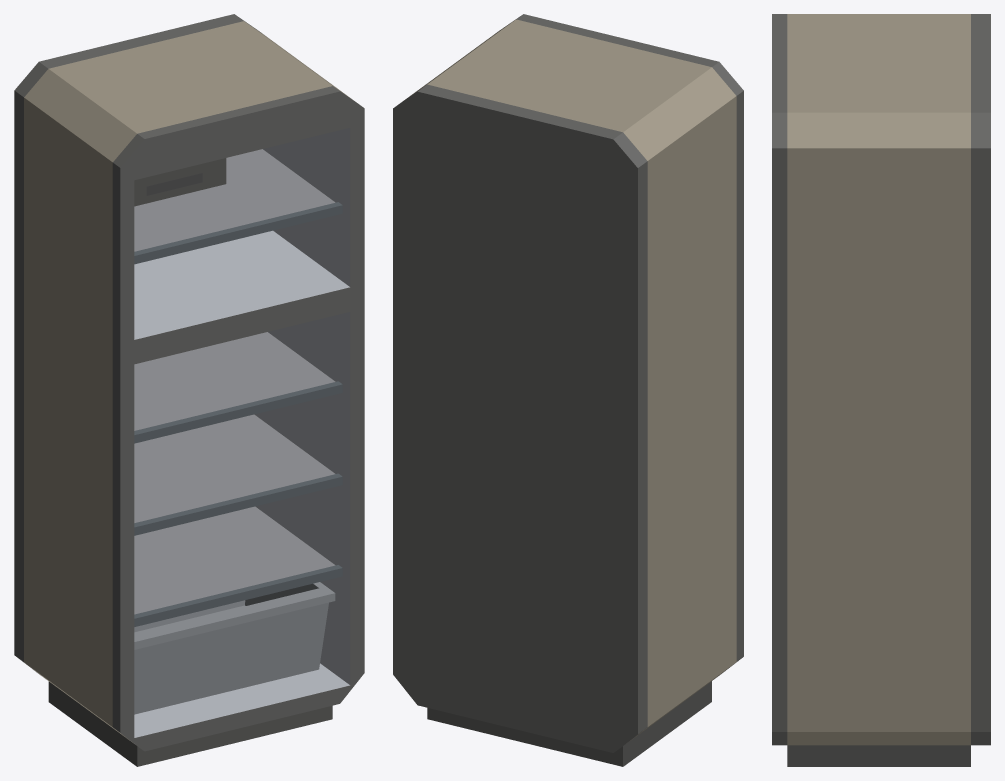
Rendered from SM_Prop_Fridge_01.glb.
The picture shows the model from 3 angles, left to right: view 1: azimuth 30°, elevation 25°; view 2: azimuth 150°, elevation 25°; view 3: azimuth 270°, elevation 25°; orthographic projection. The views are drawn at different scales.
Parts seen in each view (by area): view 1: SM_Prop_Fridge_01; view 2: SM_Prop_Fridge_01; view 3: SM_Prop_Fridge_01.
Part boxes in pixels (x1,y1,x2,y2): SM_Prop_Fridge_01: [14, 14, 364, 766]; SM_Prop_Fridge_01: [393, 14, 743, 766]; SM_Prop_Fridge_01: [772, 14, 990, 766].
Size of the model in its own units: 0.934 by 2.31 by 0.7005.
Materials: 1 (1 with a texture image).
